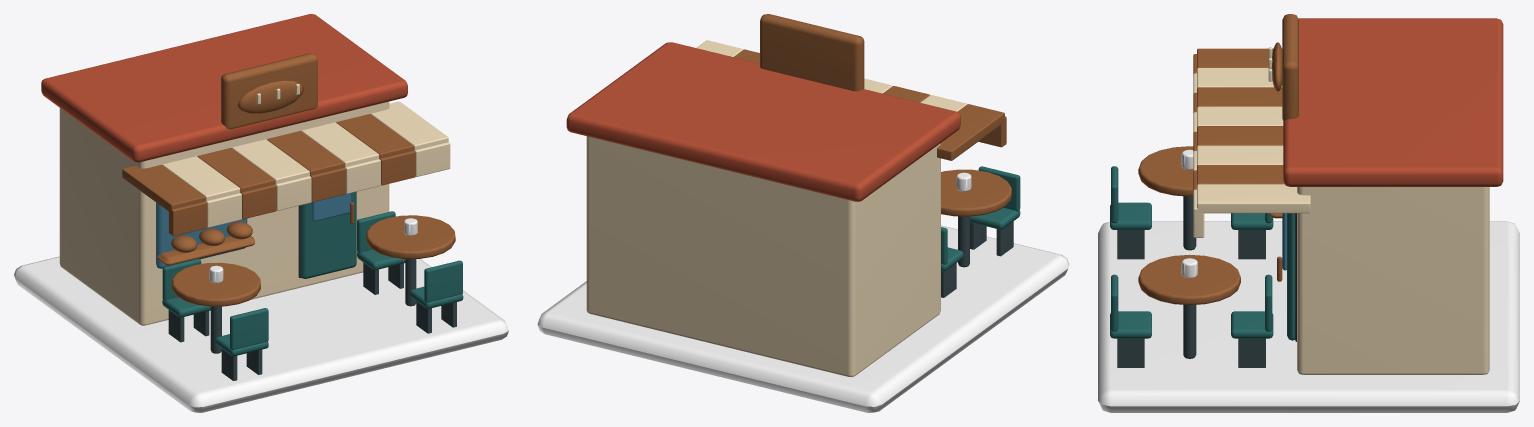
The model's file is bakery.glb.
The picture shows the model from 3 angles, left to right: view 1: azimuth 30°, elevation 25°; view 2: azimuth 150°, elevation 25°; view 3: azimuth 270°, elevation 25°; orthographic projection. The views are drawn at different scales.
Visible parts, largest first — view 1: Batch_Warm plaster_, Batch_Porcelain_, Flat roof, Batch_Honey wood_, Batch_Teal door_, Batch_Dark metal_, Cafe door, ShopWindow, Door glass; view 2: Batch_Warm plaster_, Flat roof, Batch_Porcelain_, Batch_Honey wood_, Batch_Dark metal_, Batch_Teal door_; view 3: Batch_Warm plaster_, Batch_Porcelain_, Flat roof, Batch_Honey wood_, Batch_Teal door_, Batch_Dark metal_, Cafe door.
Boxes of the visible parts, x1=… form: Batch_Warm plaster_: x1=59, y1=84, x2=450, y2=325; Batch_Porcelain_: x1=14, y1=218, x2=508, y2=412; Flat roof: x1=41, y1=14, x2=407, y2=162; Batch_Honey wood_: x1=122, y1=53, x2=455, y2=306; Batch_Teal door_: x1=162, y1=211, x2=463, y2=356; Batch_Dark metal_: x1=168, y1=259, x2=456, y2=380; Cafe door: x1=300, y1=192, x2=356, y2=278; ShopWindow: x1=156, y1=202, x2=247, y2=268; Door glass: x1=312, y1=193, x2=351, y2=221; Batch_Warm plaster_: x1=586, y1=40, x2=967, y2=377; Flat roof: x1=566, y1=42, x2=960, y2=201; Batch_Porcelain_: x1=537, y1=172, x2=1069, y2=412; Batch_Honey wood_: x1=733, y1=14, x2=1011, y2=216; Batch_Dark metal_: x1=941, y1=216, x2=1013, y2=297; Batch_Teal door_: x1=941, y1=166, x2=1020, y2=271; Batch_Warm plaster_: x1=1193, y1=47, x2=1489, y2=374; Batch_Porcelain_: x1=1098, y1=149, x2=1519, y2=412; Flat roof: x1=1283, y1=18, x2=1503, y2=186; Batch_Honey wood_: x1=1138, y1=14, x2=1298, y2=305; Batch_Teal door_: x1=1110, y1=166, x2=1273, y2=338; Batch_Dark metal_: x1=1117, y1=196, x2=1265, y2=367; Cafe door: x1=1287, y1=213, x2=1295, y2=340.
Bounding box in the file's own units: 2.3 × 1.75 × 2.3.
